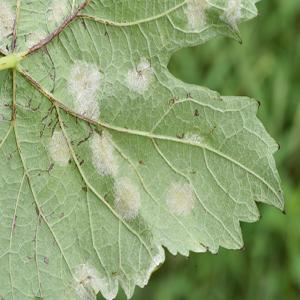Folha: (0, 0, 286, 298)
Fungo: (66, 58, 119, 178), (66, 58, 102, 124), (72, 262, 114, 300), (89, 130, 119, 178), (112, 175, 141, 221), (125, 56, 155, 94), (165, 180, 195, 217), (139, 245, 164, 288), (47, 128, 73, 166), (218, 0, 245, 32), (184, 0, 209, 31), (0, 0, 16, 44), (49, 0, 67, 22), (182, 131, 204, 146), (27, 31, 48, 46), (11, 214, 17, 234), (168, 96, 179, 106), (135, 67, 142, 79), (209, 125, 216, 135), (103, 193, 109, 204), (81, 18, 86, 30), (6, 152, 12, 162), (176, 132, 184, 139), (185, 91, 192, 99), (168, 98, 174, 107), (193, 108, 199, 116), (82, 185, 87, 193), (138, 159, 144, 165), (44, 256, 48, 264), (60, 212, 64, 218)
